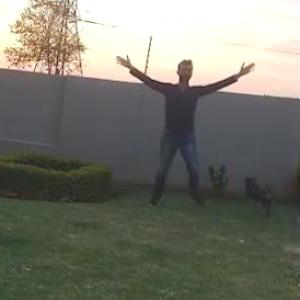takeoff: (120, 58, 246, 197)
